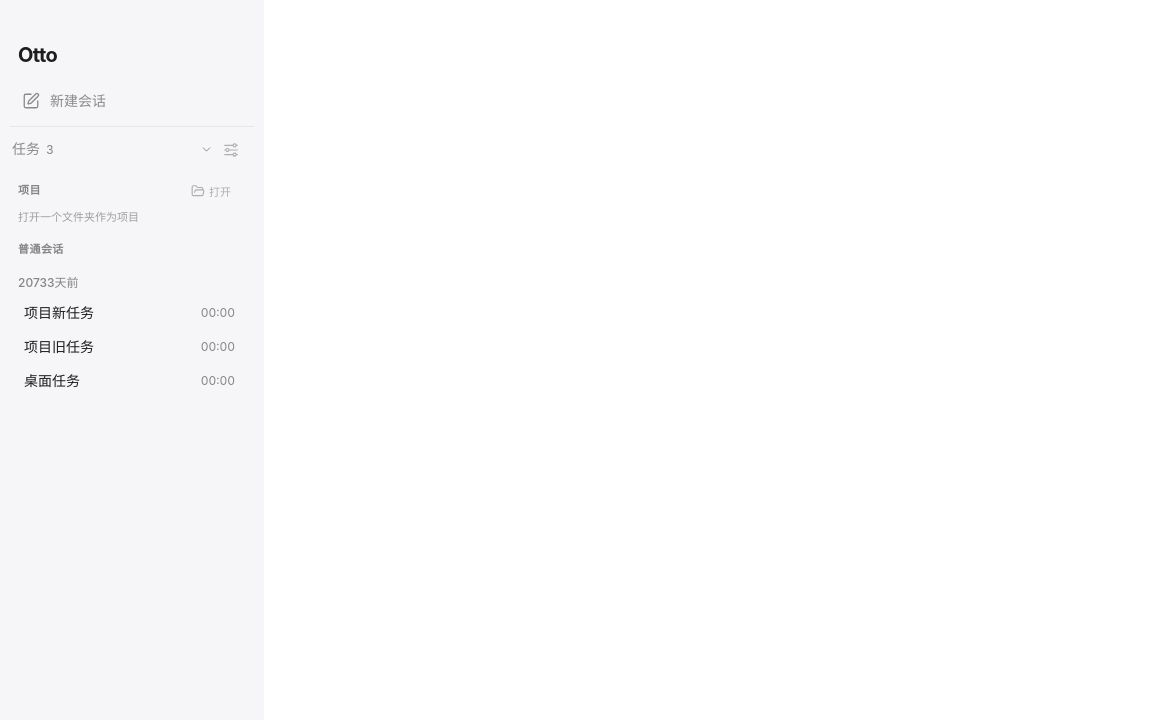
Test case: Sidebar：任务分组方式 › 分组菜单点击外部或按 Escape 都会关闭，并把焦点还给触发按钮
Click the button named "视图选项" at (231, 150), box [217, 136, 245, 164]
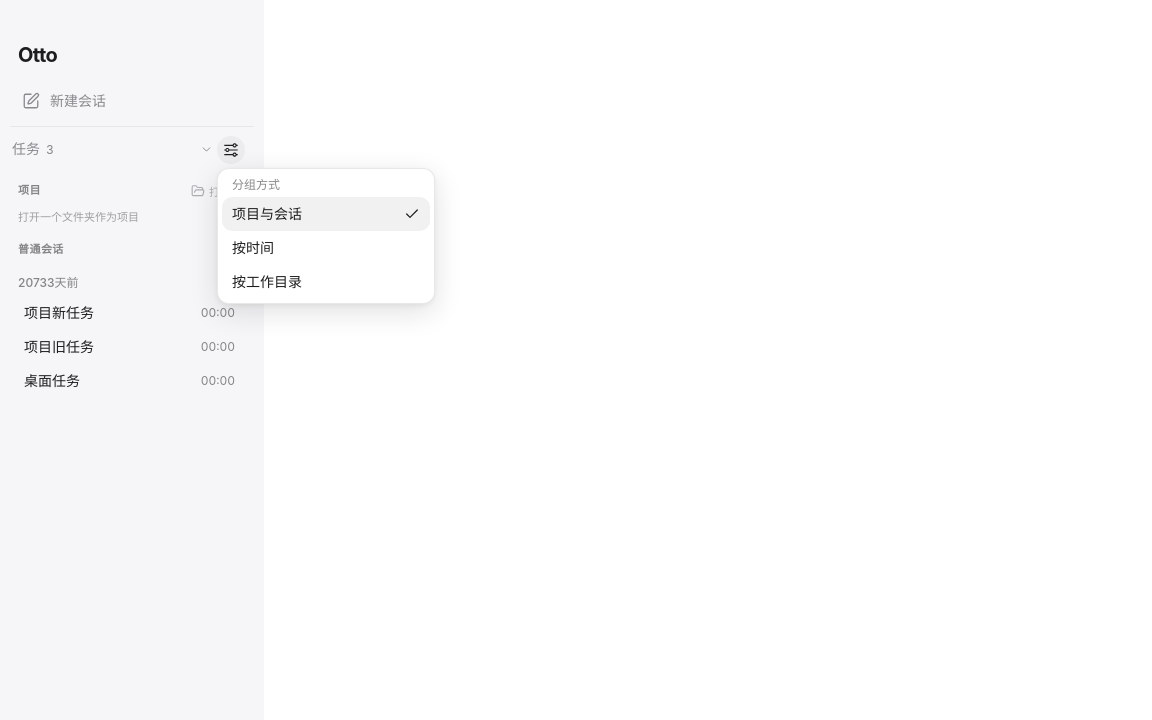
Press the mouse on the element that starts with "Otto" at (576, 360), box [0, 0, 1151, 719]
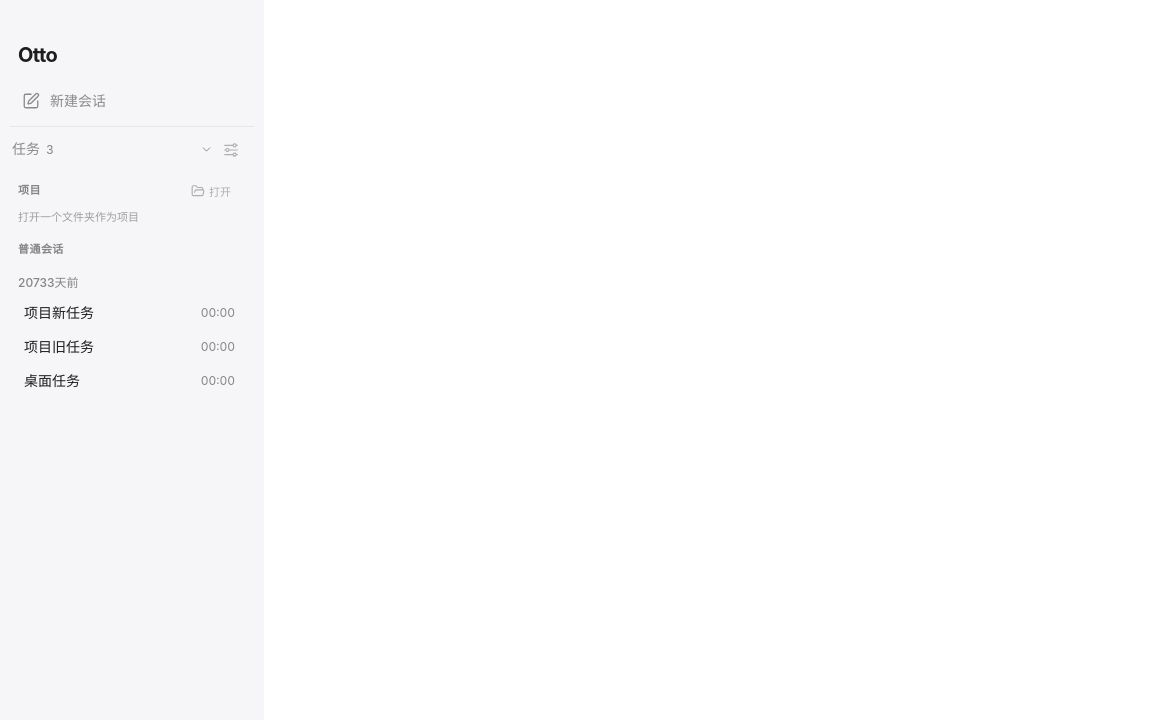
Result: the menu "分组方式 项目与会话 按时间 按工作目录" is gone
Click the button named "视图选项" at (231, 150), box [217, 136, 245, 164]
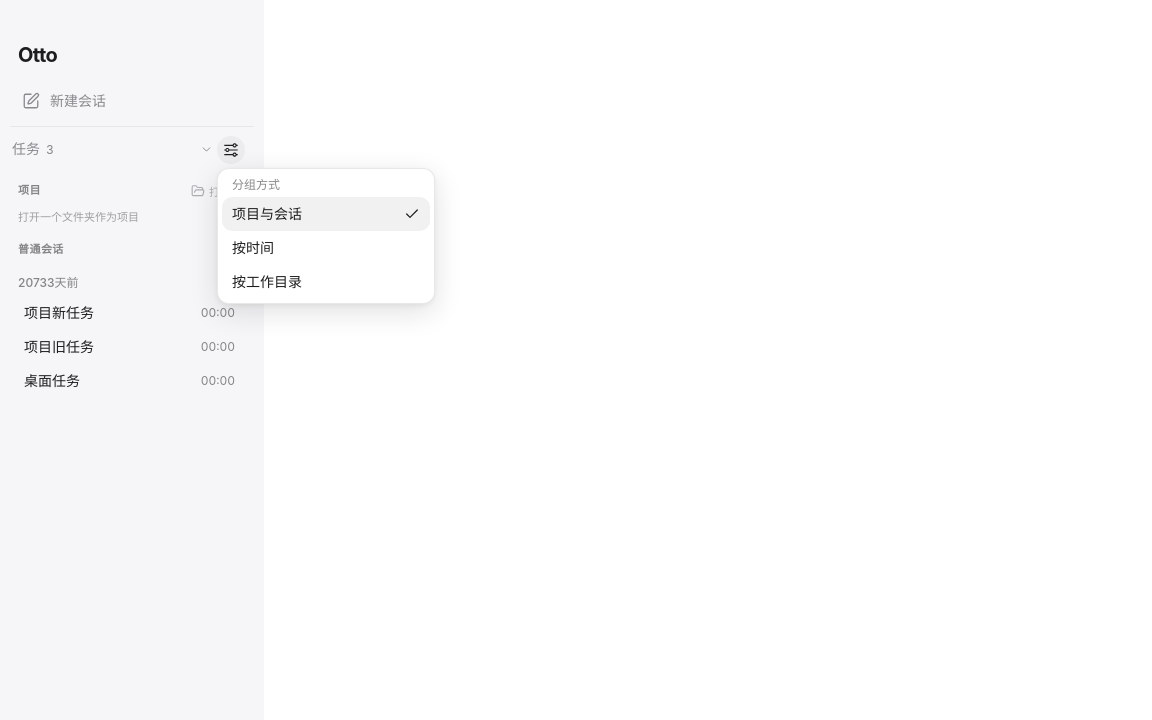
Press Escape
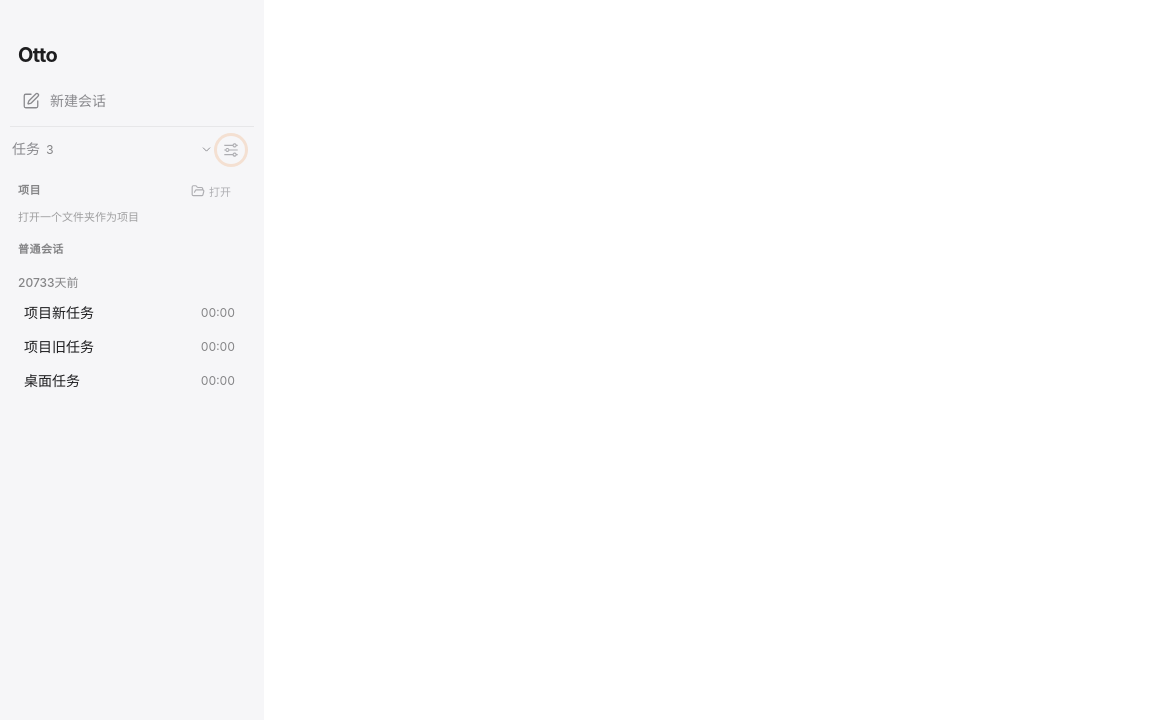
Result: the menu "分组方式 项目与会话 按时间 按工作目录" is gone
